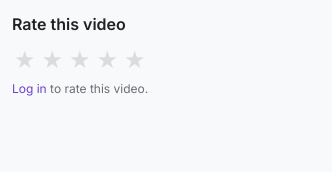
Test: StarRating › updates summary after successful submitRating
Click the 4th button "★": x=107, y=60 [94, 46, 120, 74]
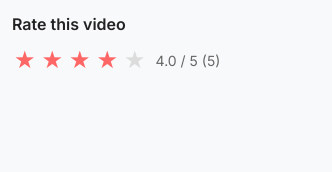
Expected: the text "4.0 / 5 (5)" is shown, [156, 50, 220, 70]
